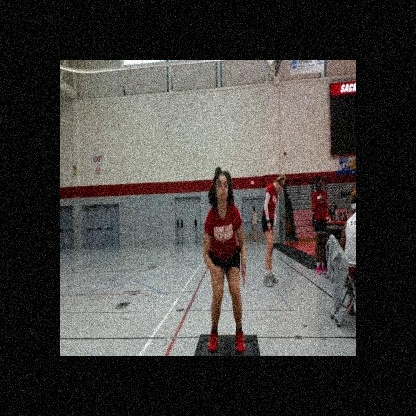lateral_flexion_right: (201, 164, 248, 356)
stance_width_normal: (202, 198, 248, 356)
